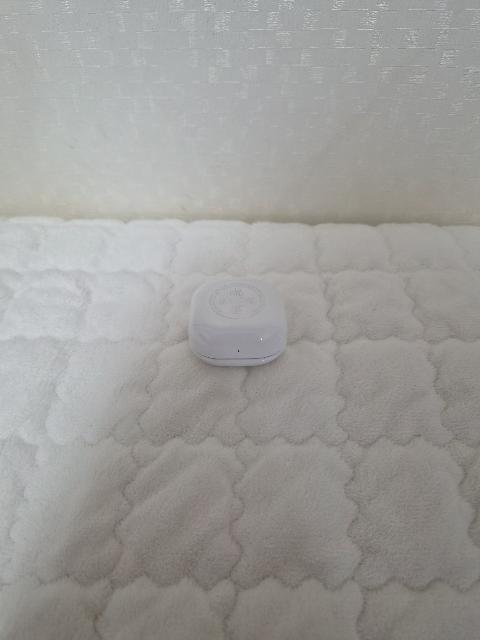earphone_case: (188, 278, 288, 367)
